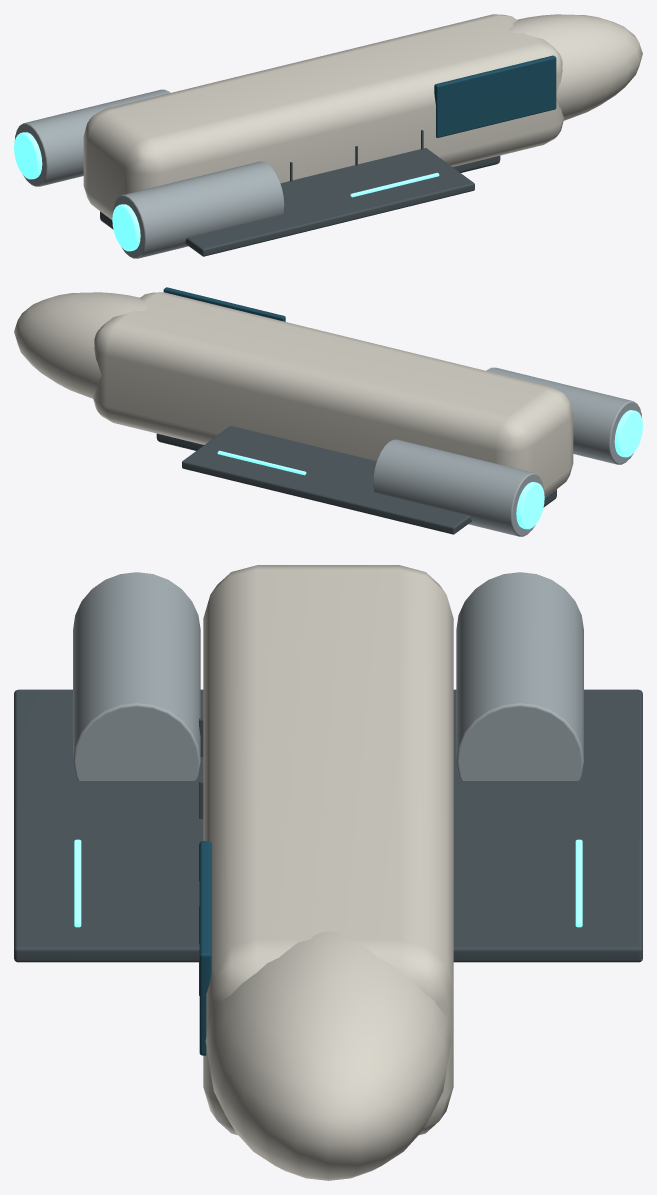
The model's file is shuttle.glb.
3 views of the same model, one above another, from view 1: azimuth 30°, elevation 25°; view 2: azimuth 150°, elevation 25°; view 3: azimuth 270°, elevation 25° (orthographic). The views are drawn at different scales.
Parts seen in each view (by area): view 1: Shuttle_mesh; view 2: Shuttle_mesh; view 3: Shuttle_mesh.
Boxes of the visible parts, <box> form: Shuttle_mesh: <box>14,14,642,258</box>; Shuttle_mesh: <box>14,287,642,536</box>; Shuttle_mesh: <box>14,565,642,1180</box>.
Bounding box in the file's own units: 2.58 × 0.4875 × 1.28.
